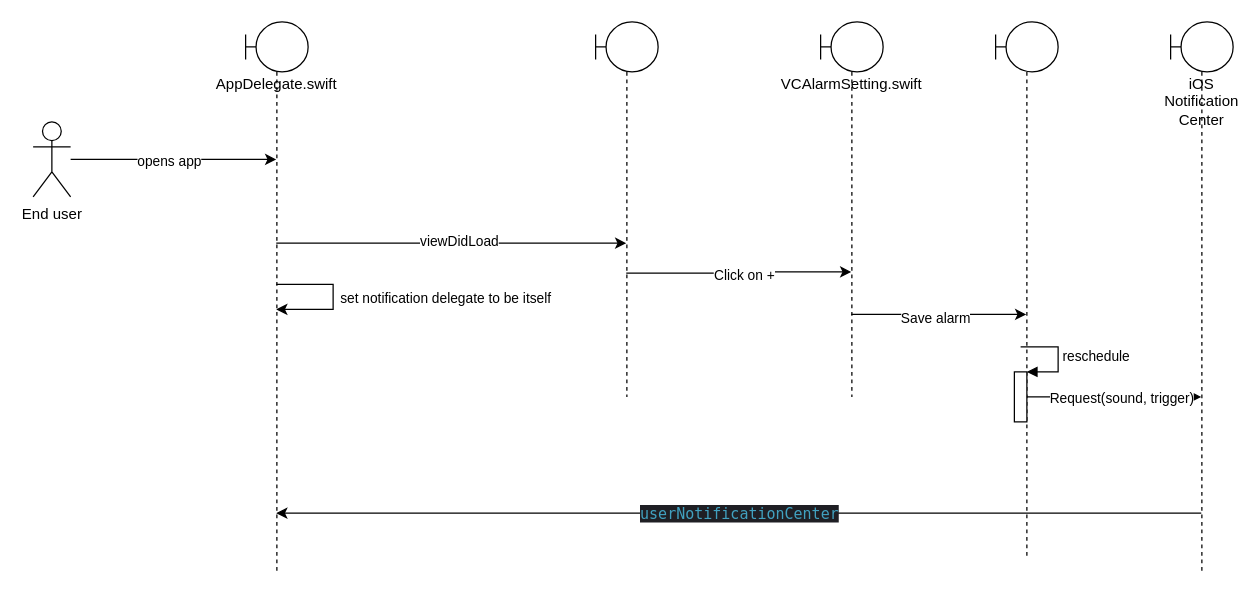
This 1260x594 diagram has some shape labels left out. The shapes that lost their labels are listed below. From the top down, each one's box as (x1, y1, x2, y2) in pixels, then its label:
(594, 21, 658, 397): VCAlarmList.swift
(994, 21, 1058, 559): AlarmModel.swift
